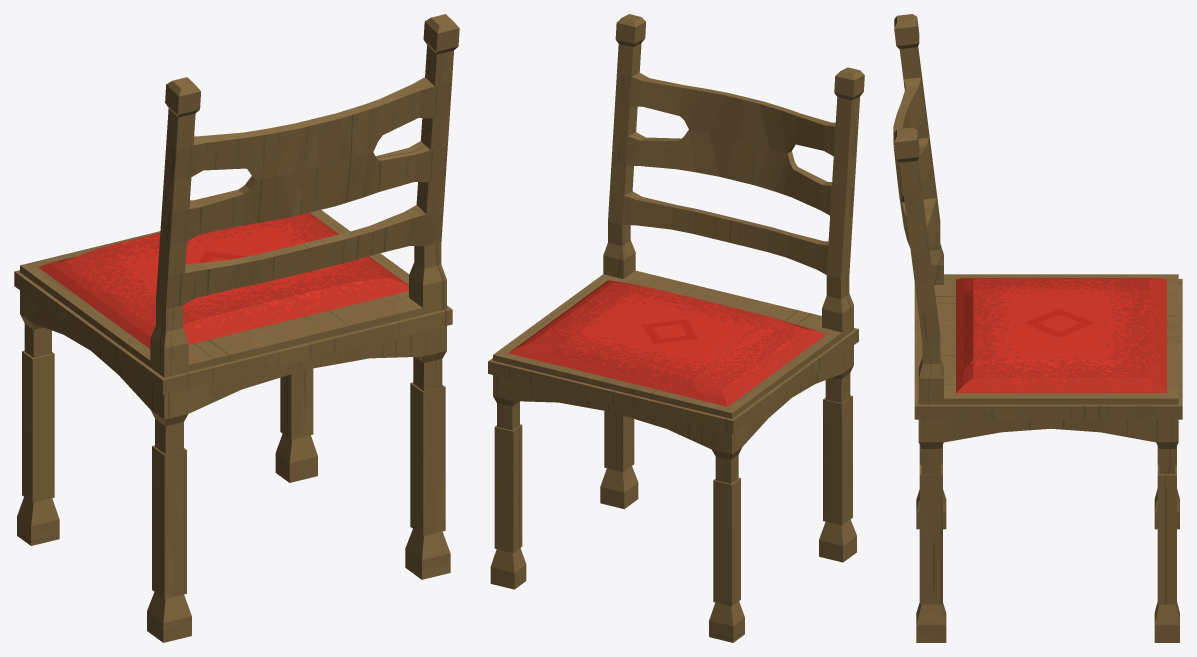
The model's file is Chair.fbx.
3 renders of one model, left to right at view 1: azimuth 30°, elevation 25°; view 2: azimuth 150°, elevation 25°; view 3: azimuth 270°, elevation 25°, orthographic. The views are drawn at different scales.
Parts seen in each view (by area): view 1: Chair; view 2: Chair; view 3: Chair.
Boxes of the visible parts, x1,y1,x2,y2 form: Chair: (14, 14, 459, 642); Chair: (488, 14, 864, 642); Chair: (893, 14, 1182, 642).
Bounding box in the file's own units: 1748 × 3242 × 1679.
